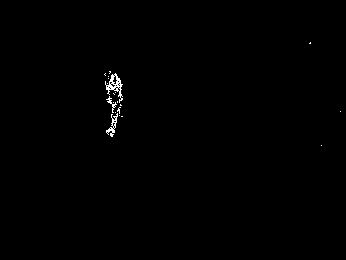person: (101, 71, 124, 139)
